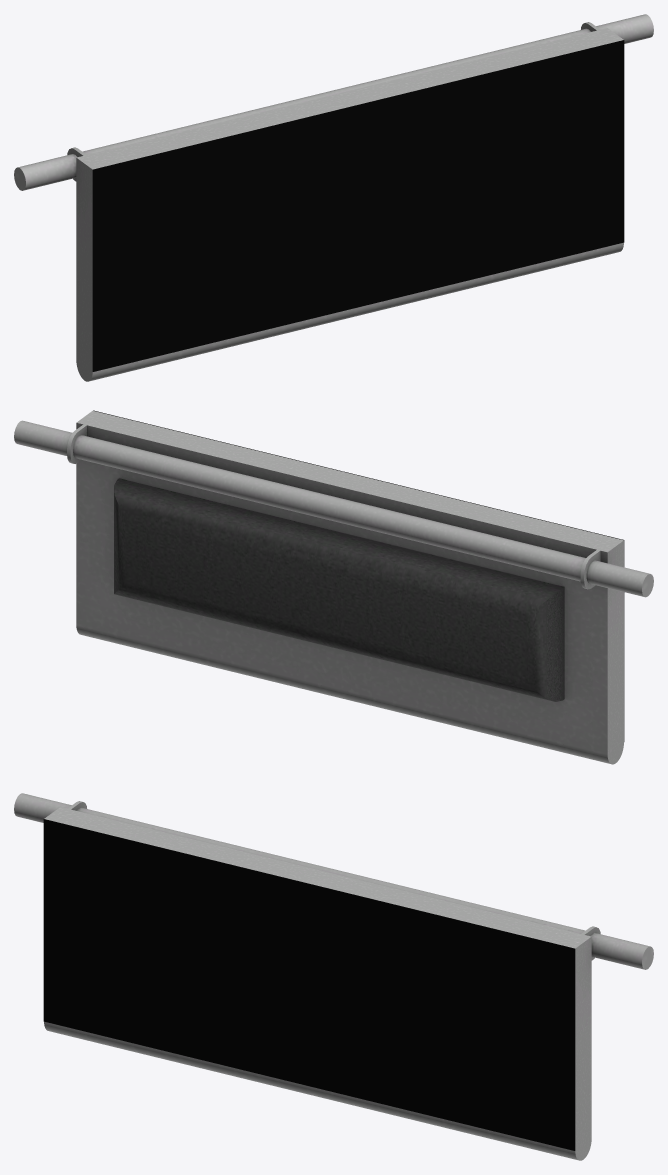
File: Display_Lennfotainment.fbx
3 renders of one model, top to bottom at view 1: azimuth 30°, elevation 25°; view 2: azimuth 150°, elevation 25°; view 3: azimuth 330°, elevation 25°, orthographic.
Visible parts, largest first — view 1: Glasscheibe, Monitor.001, Stange.001; view 2: Monitor.001, Stange.001, Glasscheibe; view 3: Glasscheibe, Monitor.001, Stange.001.
Part boxes in pixels (left/top/right/bottom): Glasscheibe: left=92, top=40, right=624, bottom=371; Monitor.001: left=76, top=28, right=623, bottom=381; Stange.001: left=14, top=14, right=653, bottom=190; Monitor.001: left=76, top=411, right=623, bottom=764; Stange.001: left=14, top=420, right=653, bottom=597; Glasscheibe: left=93, top=410, right=624, bottom=741; Glasscheibe: left=43, top=819, right=575, bottom=1150; Monitor.001: left=44, top=807, right=591, bottom=1160; Stange.001: left=14, top=793, right=653, bottom=969.
Size of the model in its own units: 88.4 by 29.2 by 8.1.
